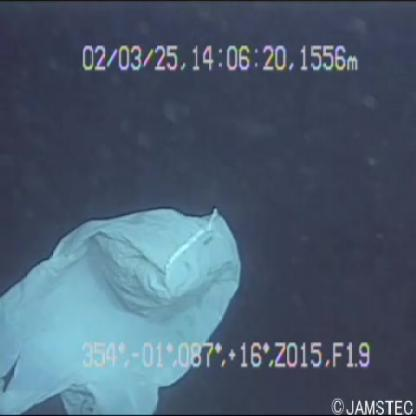Rác: (0, 197, 252, 416)
